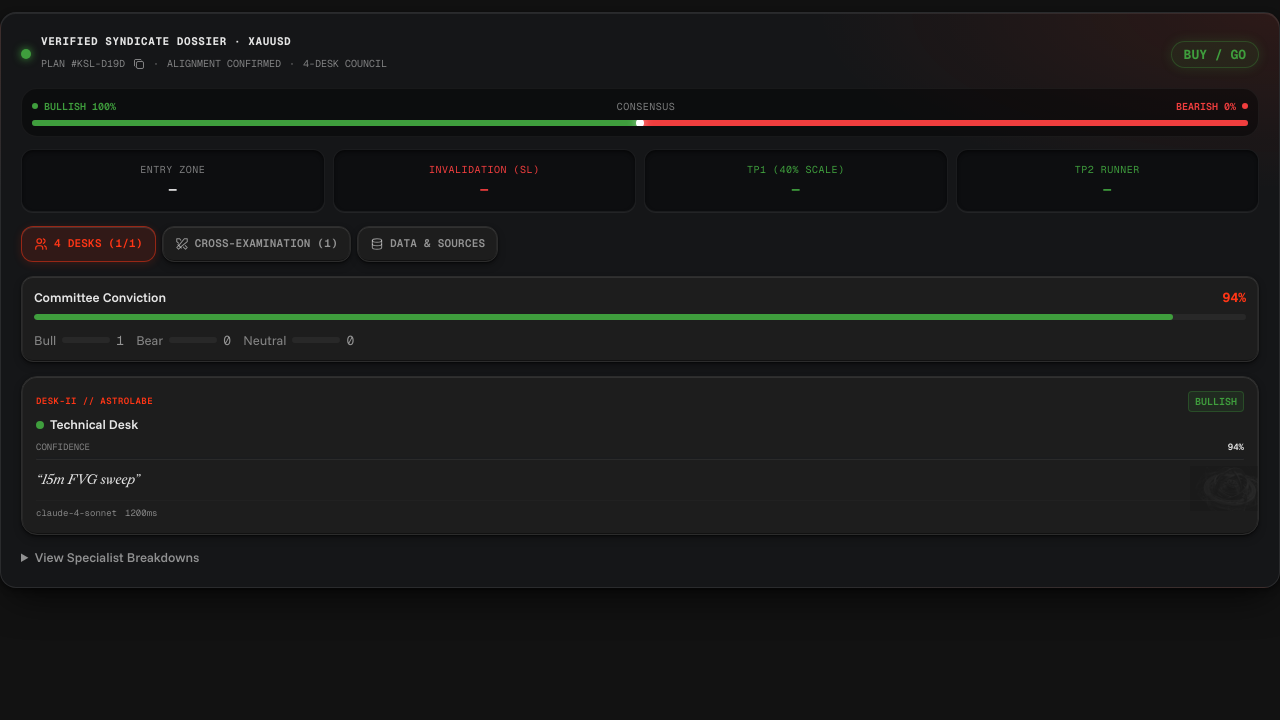
it: MastraReportPart multi-agent routing (Locked Decision 4A) › routes data-multi-agent-meta agentOpinions through the SyndicateDossierCard
The width and height of the screenshot is (1280, 720).
Expected: the text "VERIFIED SYNDICATE DOSSIER · XAUUSD" is shown, [41,33,291,50]
Expected: the text "DESK-II // ASTROLABE" is shown, [36,395,153,408]
Click the tab "Cross-Examination (1)": (256, 244) [162,226,351,262]
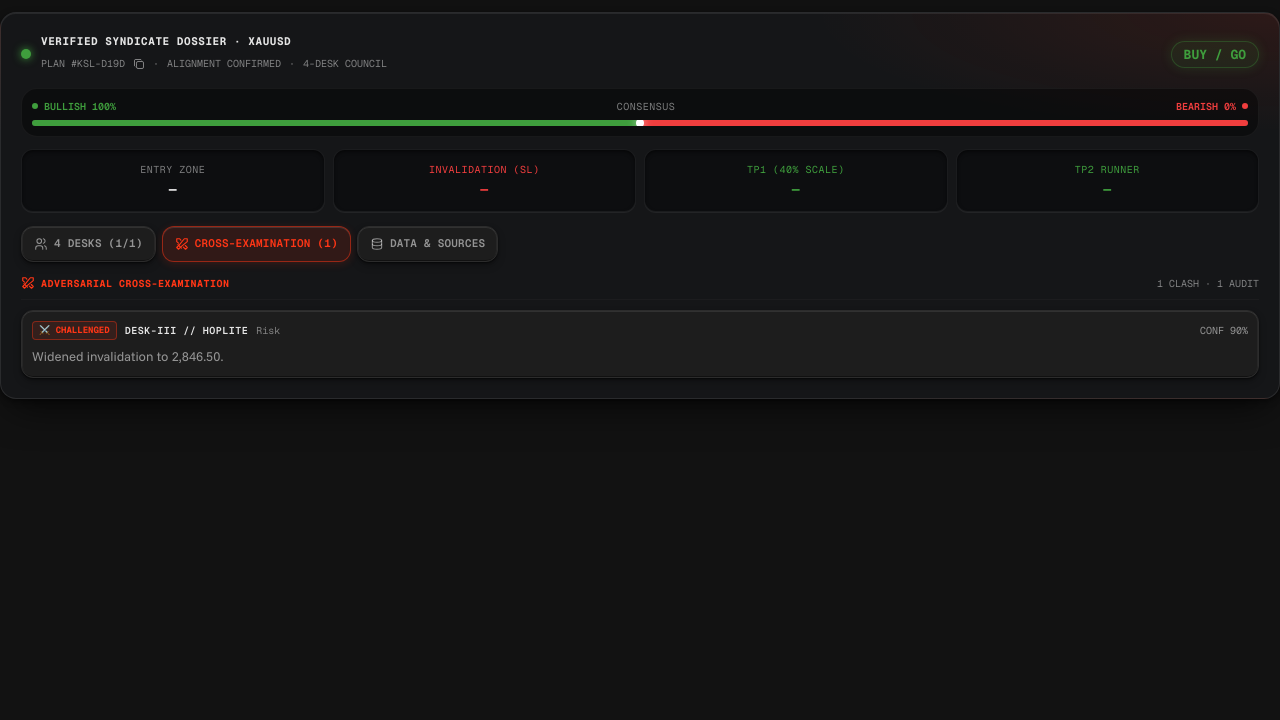
Expected: the text "Widened invalidation to 2,846.50." is shown, [32,348,223,364]
